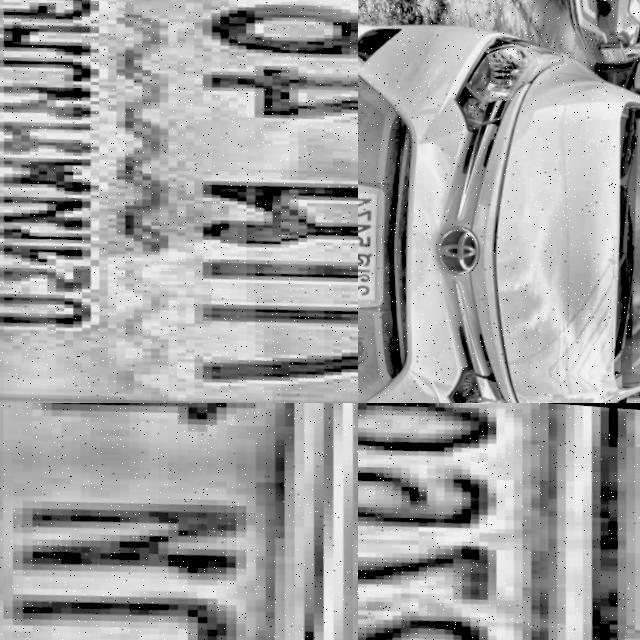license-plate: (0, 0, 358, 403), (0, 403, 358, 640), (358, 403, 640, 640), (358, 179, 392, 312)
